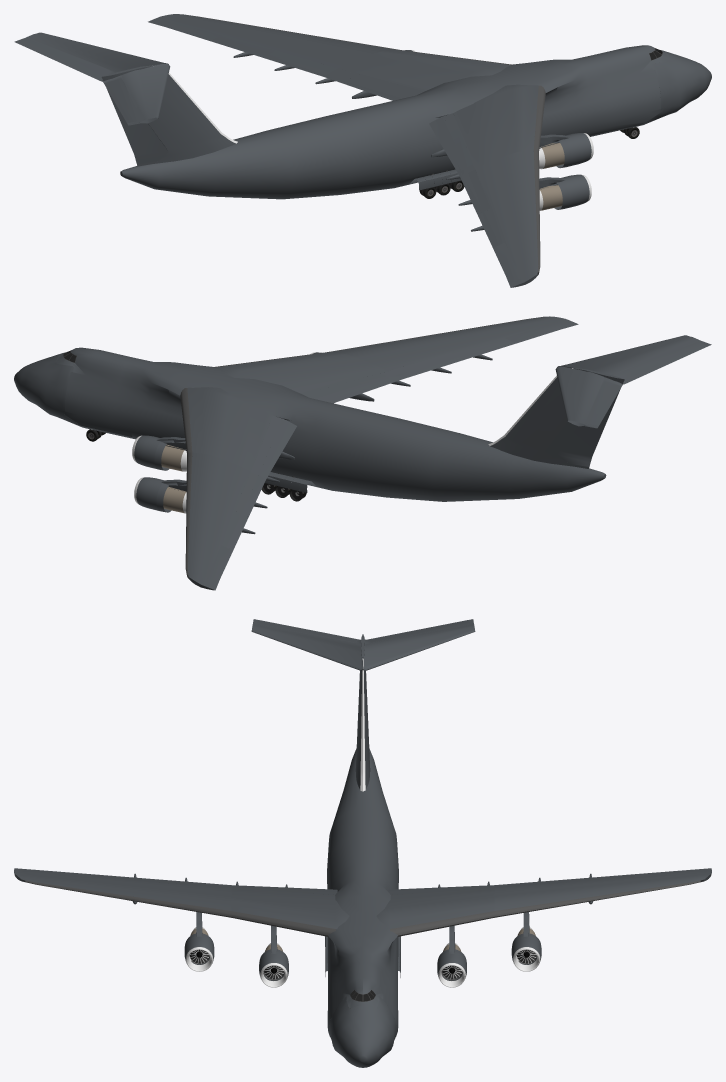
The picture shows the model from 3 angles, top to bottom: view 1: azimuth 30°, elevation 25°; view 2: azimuth 150°, elevation 25°; view 3: azimuth 270°, elevation 25°; orthographic projection. The views are drawn at different scales.
Visible parts, largest first — view 1: Cargo door; view 2: Cargo door; view 3: Cargo door.
Part boxes in pixels (x1,y1,x2,y2): Cargo door: [14, 14, 711, 287]; Cargo door: [14, 316, 711, 590]; Cargo door: [14, 619, 711, 1067].
Bounding box in the file's own units: 80.84 × 22.76 × 79.64.
Materials: 16 (4 with a texture image).
